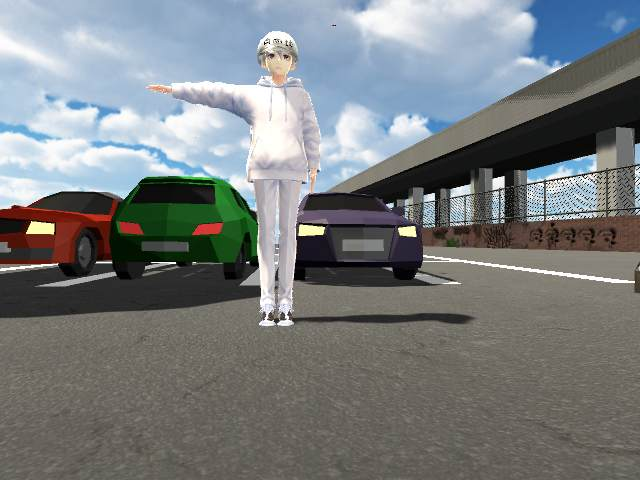singleP_left: (145, 29, 320, 329)
